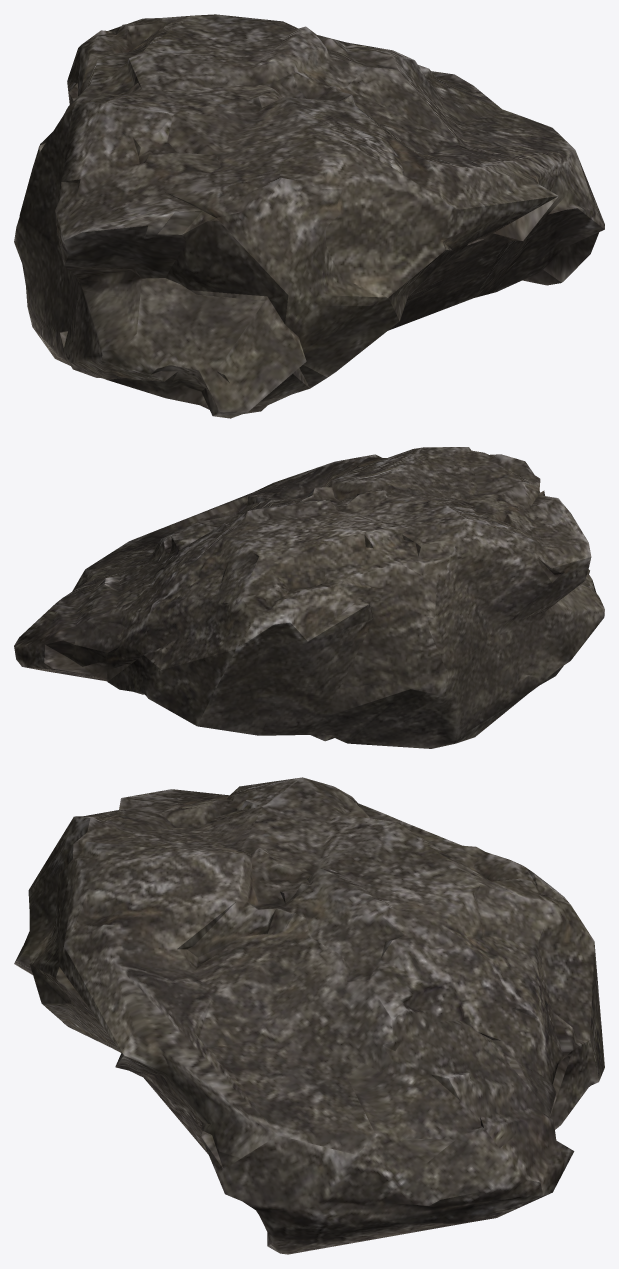
File: RockD.fbx
3 views of the same model, one above another, from view 1: azimuth 30°, elevation 25°; view 2: azimuth 150°, elevation 25°; view 3: azimuth 270°, elevation 25° (orthographic). The views are drawn at different scales.
Visible parts, largest first — view 1: RockDTop_geo, RockDBot_geo; view 2: RockDTop_geo, RockDBot_geo; view 3: RockDTop_geo, RockDBot_geo.
Part boxes in pixels (<box>): RockDTop_geo: <box>19,14,589,305</box>; RockDBot_geo: <box>14,181,604,418</box>; RockDTop_geo: <box>43,447,591,699</box>; RockDBot_geo: <box>14,569,604,748</box>; RockDTop_geo: <box>28,777,601,1165</box>; RockDBot_geo: <box>14,931,604,1254</box>.
Size of the model in its own units: 158 by 71.86 by 142.
1 material, 1 textured.
